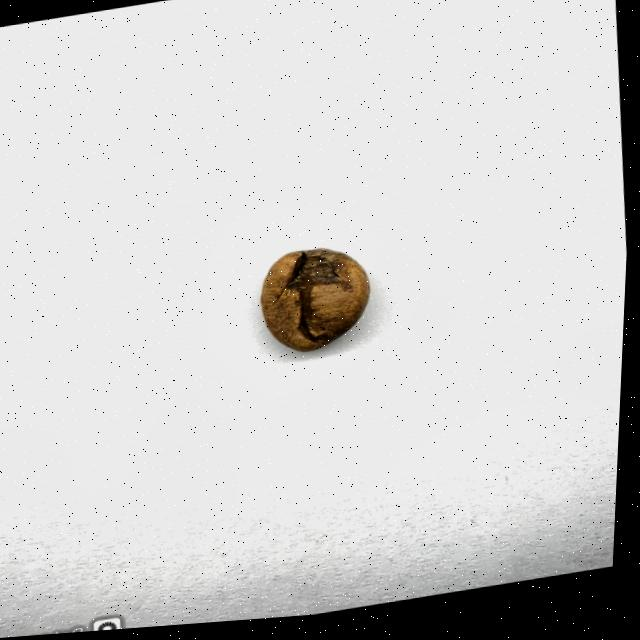Scorched: (259, 243, 378, 364)
